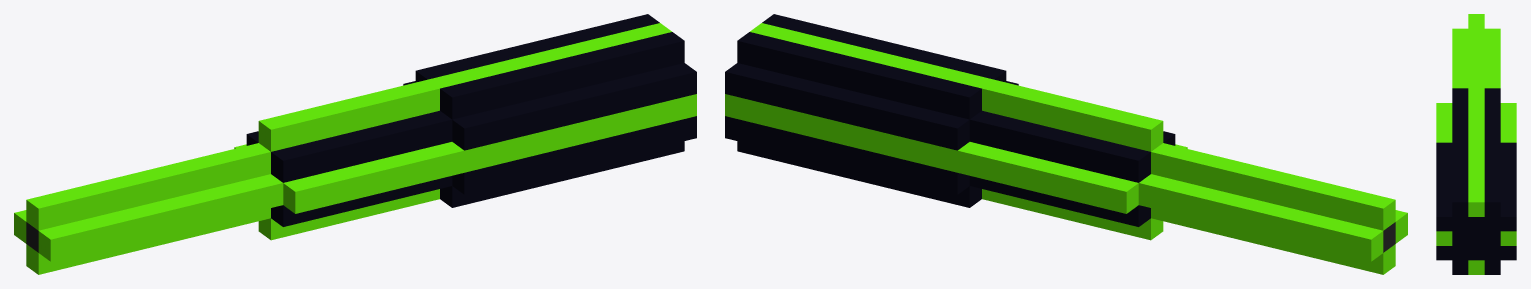
File: NeonLightTankPlayer-1.obj
3 renders of one model, left to right at view 1: azimuth 30°, elevation 25°; view 2: azimuth 150°, elevation 25°; view 3: azimuth 270°, elevation 25°, orthographic. The views are drawn at different scales.
Bounding box in the file's own units: 3 × 0.5 × 0.5.
1 material, 1 textured.
